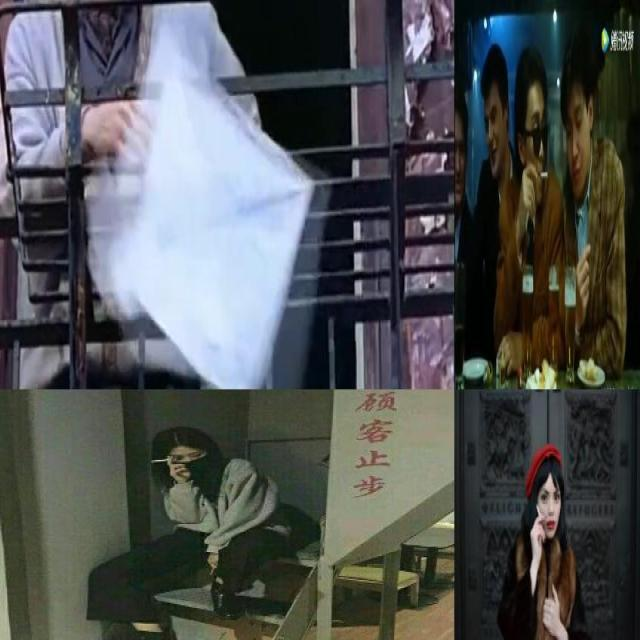smoking: (538, 159, 550, 182), (148, 455, 172, 462), (536, 504, 542, 519)
